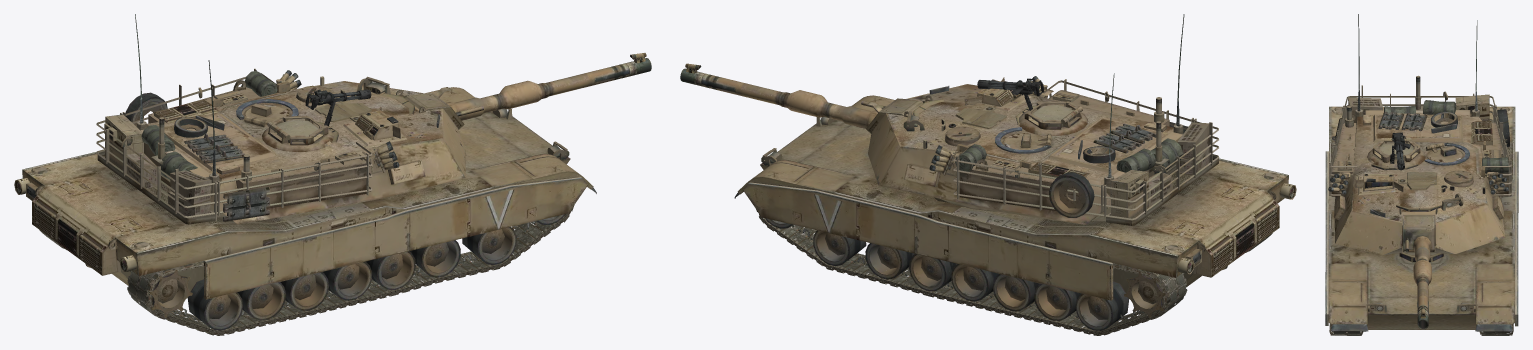
Rendered from us-abrams.glb.
The picture shows the model from 3 angles, left to right: view 1: azimuth 30°, elevation 25°; view 2: azimuth 150°, elevation 25°; view 3: azimuth 270°, elevation 25°; orthographic projection. The views are drawn at different scales.
Parts seen in each view (by area): view 1: root; view 2: root; view 3: root.
Part boxes in pixels (x1,y1,x2,y2): root: (14, 14, 651, 335); root: (680, 14, 1296, 335); root: (1325, 14, 1518, 335).
Bounding box in the file's own units: 9.8 × 4.26 × 3.49.
4 materials, 4 textured.
